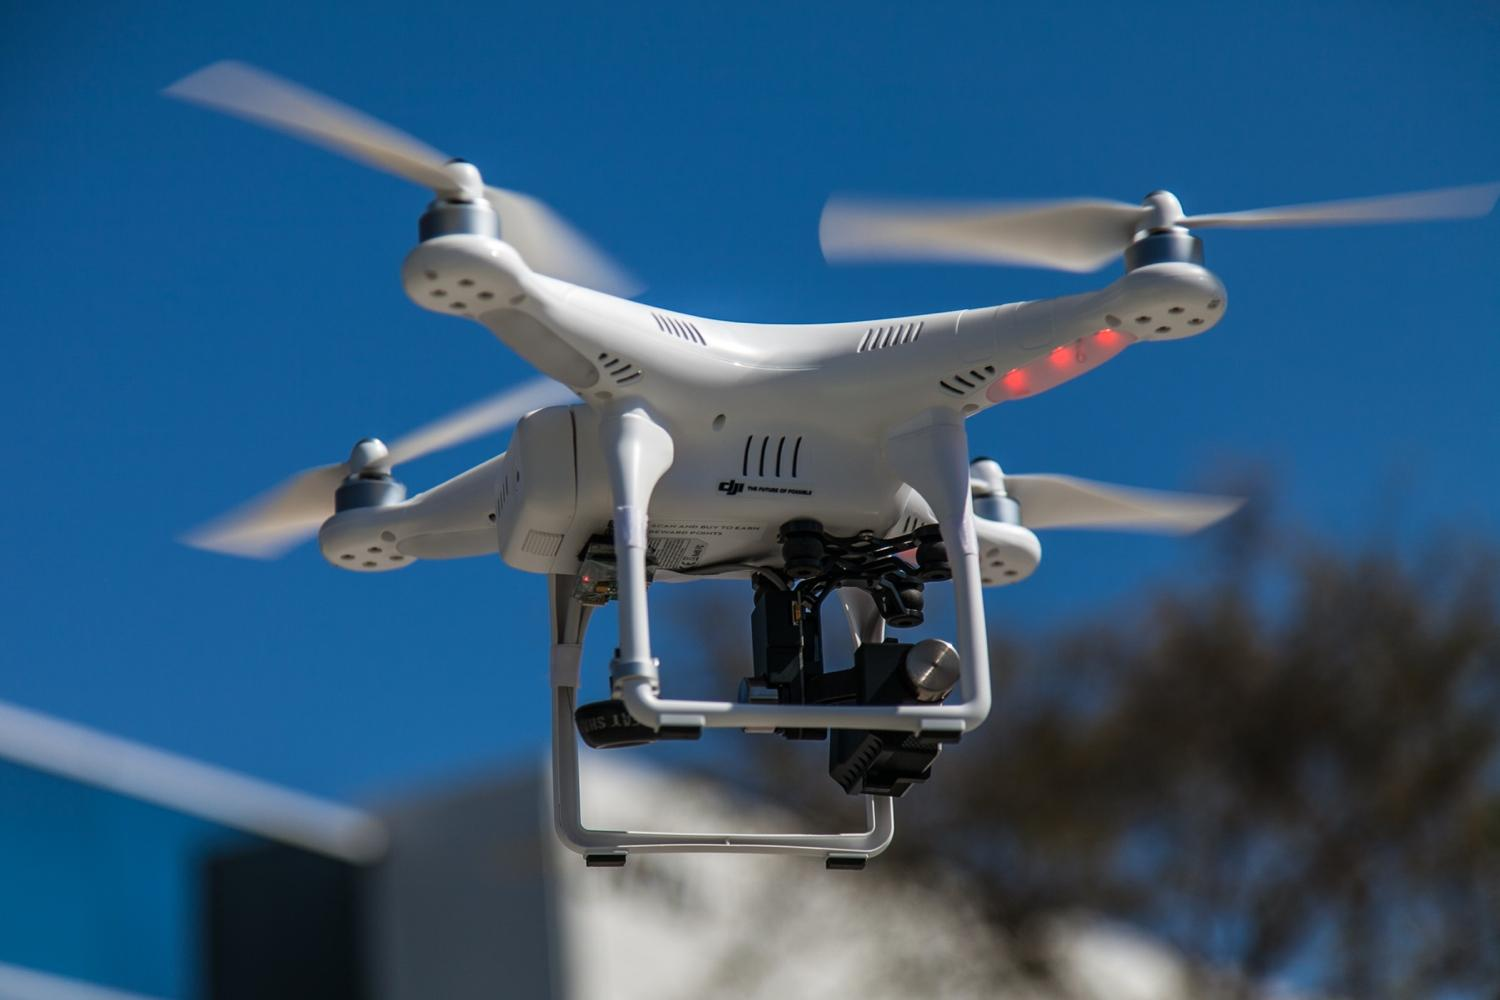drone: (161, 46, 1500, 875)
